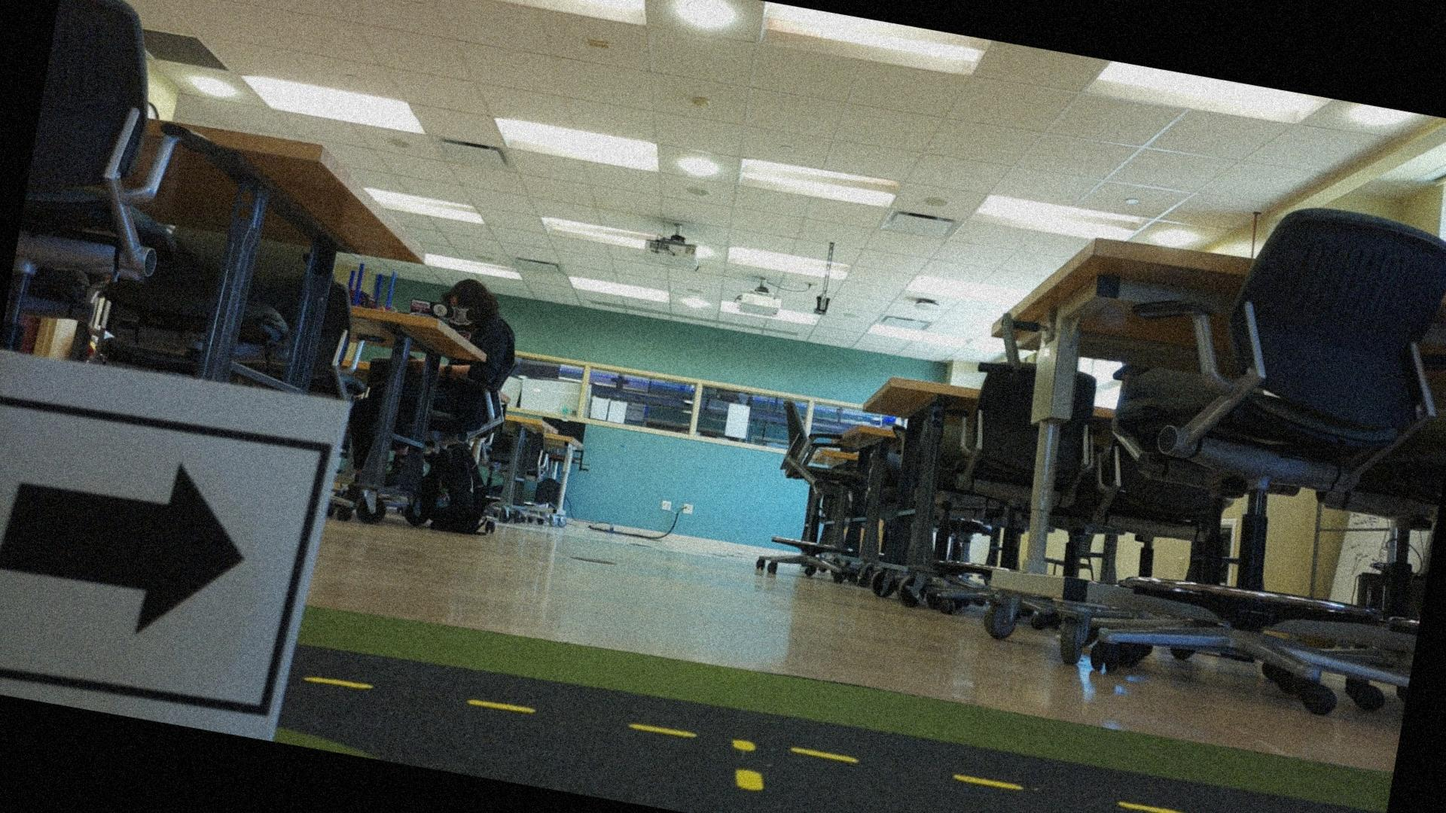turnright: (0, 400, 318, 717)
yellowline: (304, 647, 1368, 812), (723, 737, 773, 798)
